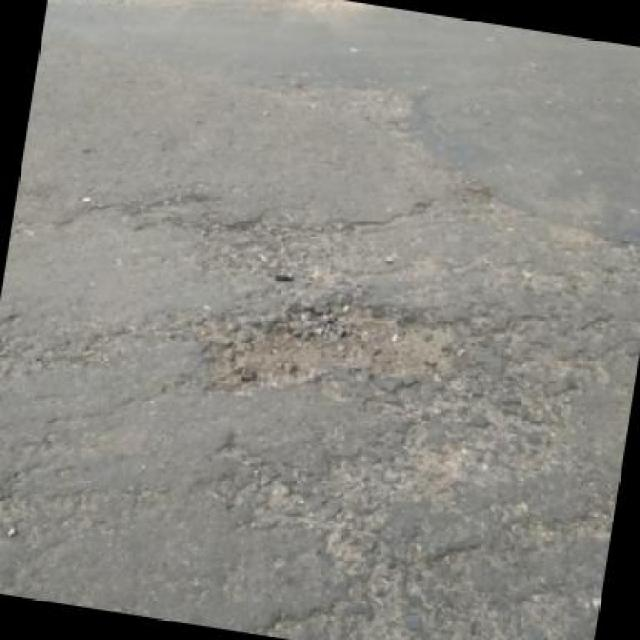pothole1: (195, 273, 470, 433), (216, 198, 352, 291)
